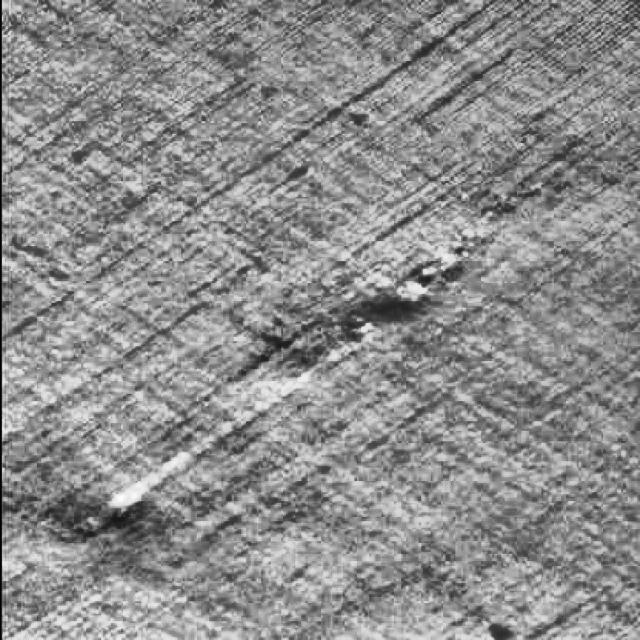thread_error: (56, 178, 528, 551)
